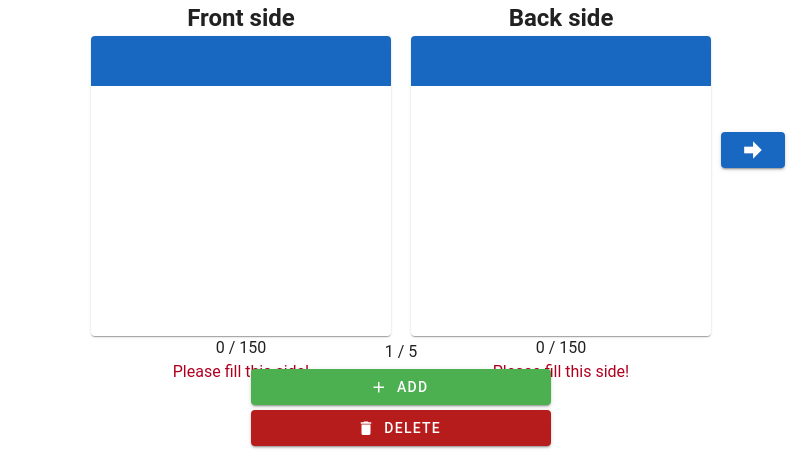
FlashcardForm component › Arrow buttons › Arrow buttons switch cards successfully
What coordinates should you click on to do the following:
click the button named "Move to next flashcard"
I would click on:
 (753, 150)
Its box is [721,132,785,168].
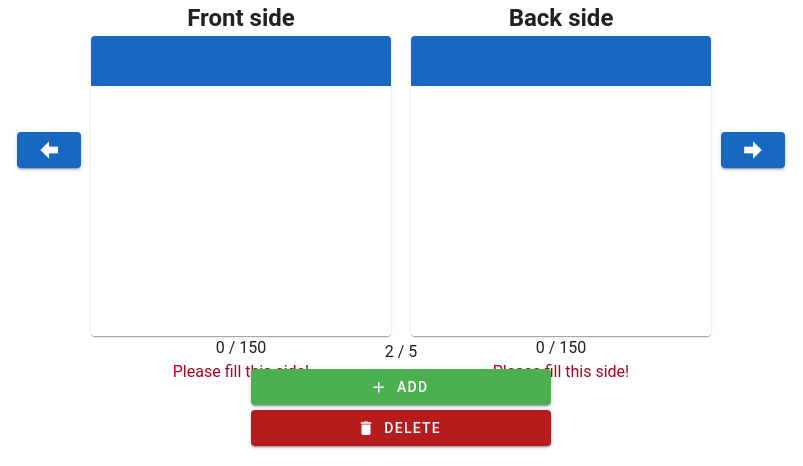
Check: the text "2 / 5" is shown, box [385,340,417,364]
What coordinates should you click on to do the following:
click the button named "Move to previous flashcard"
I would click on:
 (49, 150)
Its box is [17,132,81,168].
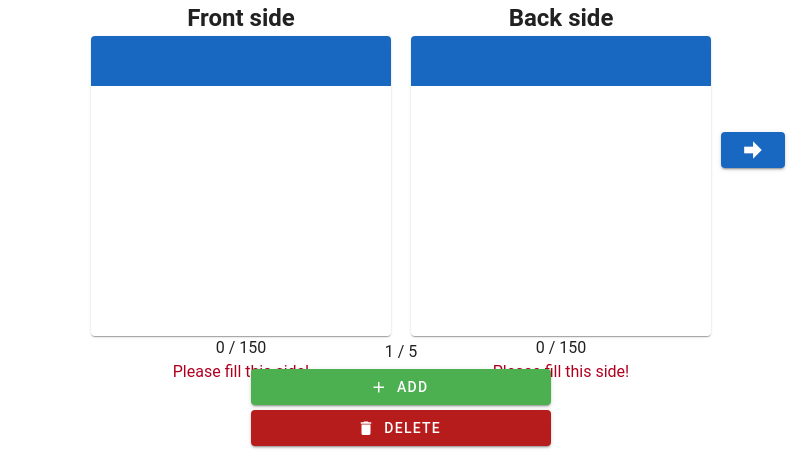
Check: the text "1 / 5" is shown, box [385,340,417,364]
